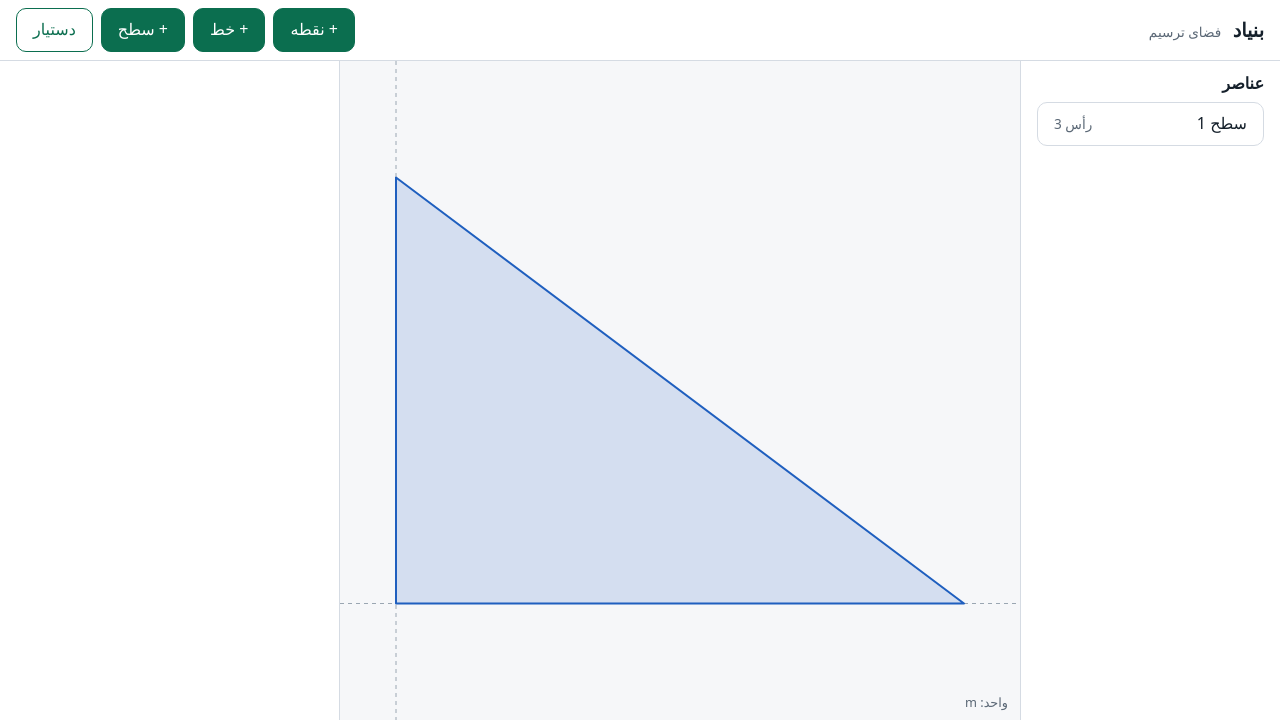
Test: App › measures a selected surface from the server, not from the browser
Click the button "سطح 1 3 رأس" at point(1150, 124), box [1037,102,1264,146]
(page scrolled)
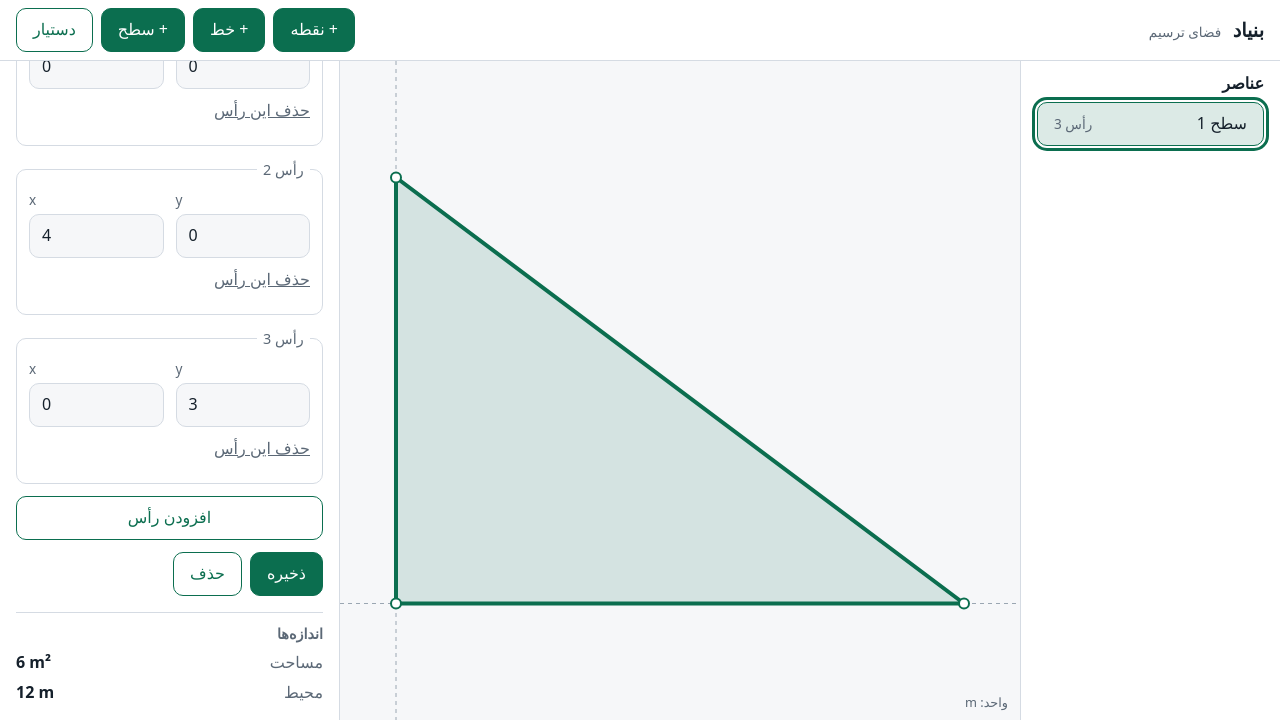
Expected: the text "6 m²" is shown, [16,651,51,673]
Expected: the text "12 m" is shown, [16,681,54,703]
